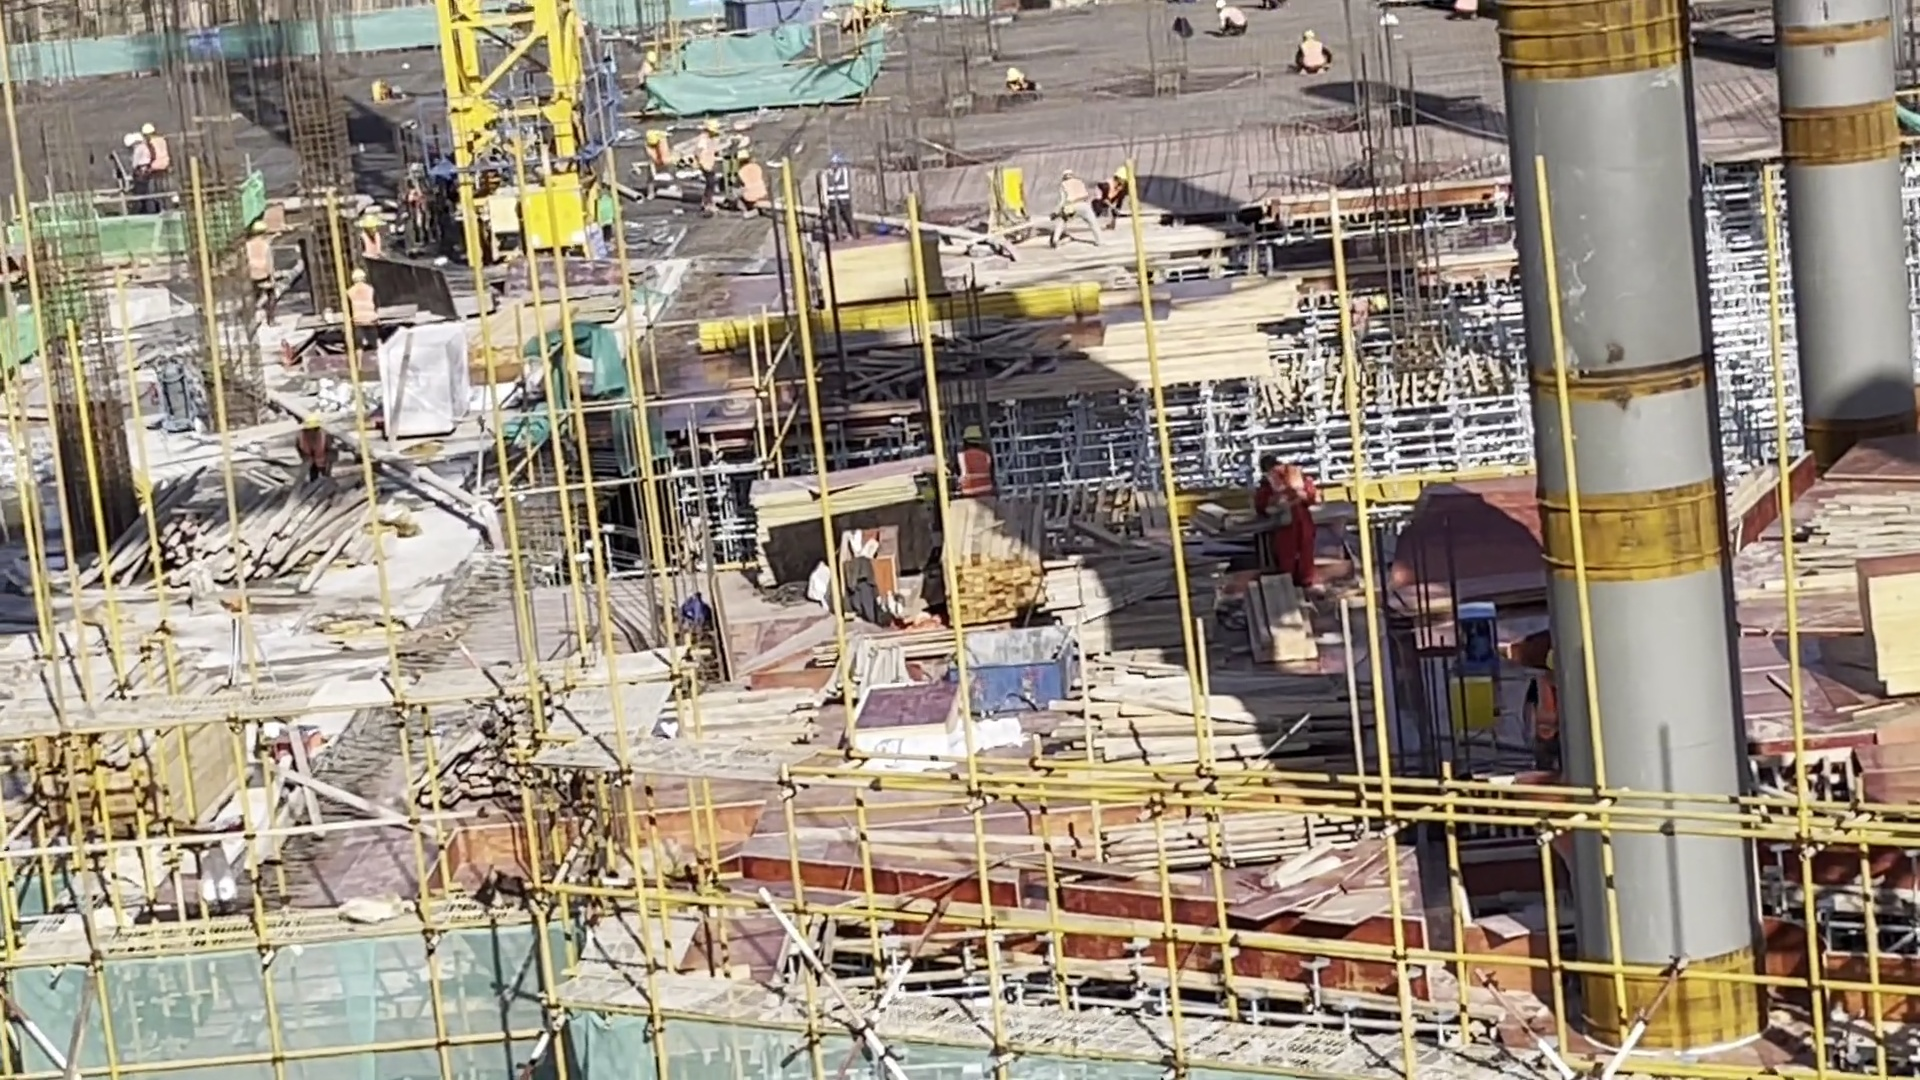helmet: (245, 212, 271, 239), (957, 420, 982, 444), (299, 415, 321, 436), (1060, 167, 1082, 187), (407, 162, 427, 183), (1109, 165, 1128, 186), (644, 128, 659, 151), (825, 154, 841, 171), (347, 269, 364, 285), (1302, 30, 1317, 45), (1208, 1, 1227, 13)
person: (1255, 454, 1326, 585), (240, 215, 284, 329), (399, 160, 440, 261), (687, 120, 724, 218), (1052, 171, 1101, 245), (335, 269, 378, 350), (294, 411, 341, 484), (953, 425, 1002, 492), (826, 154, 858, 241), (1286, 26, 1336, 82), (731, 150, 769, 220), (141, 121, 176, 196), (1101, 158, 1131, 233), (124, 130, 153, 205), (355, 218, 389, 267), (639, 129, 674, 173), (999, 66, 1040, 100), (1216, 1, 1251, 37)
vest: (1263, 470, 1313, 526), (1534, 681, 1559, 738), (954, 448, 995, 483), (736, 167, 763, 200), (301, 437, 327, 469), (827, 172, 849, 201)
